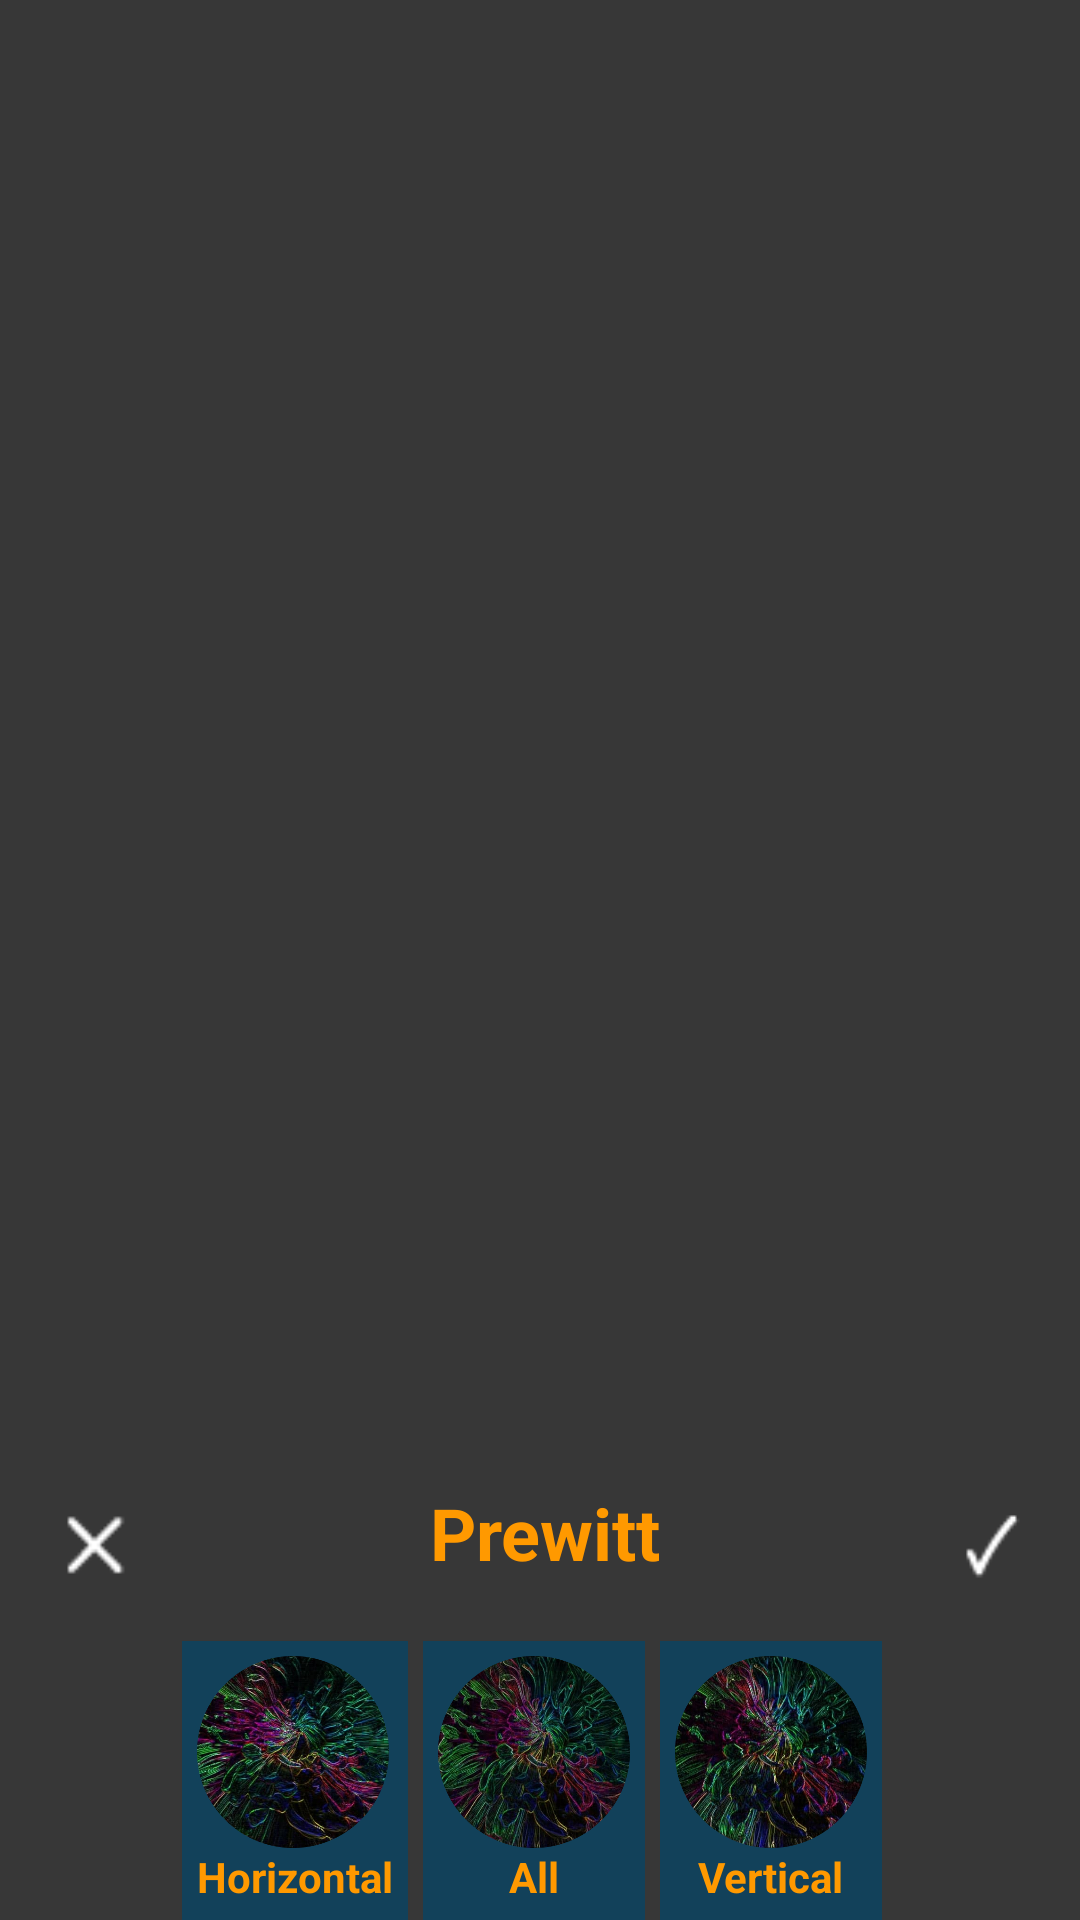

Named icons in this screenshot (1080 x 1920) and their bounding boxes, (x1, y1, x2, y2):
annuler: (67, 1516, 124, 1574)
valider: (966, 1515, 1017, 1577)
